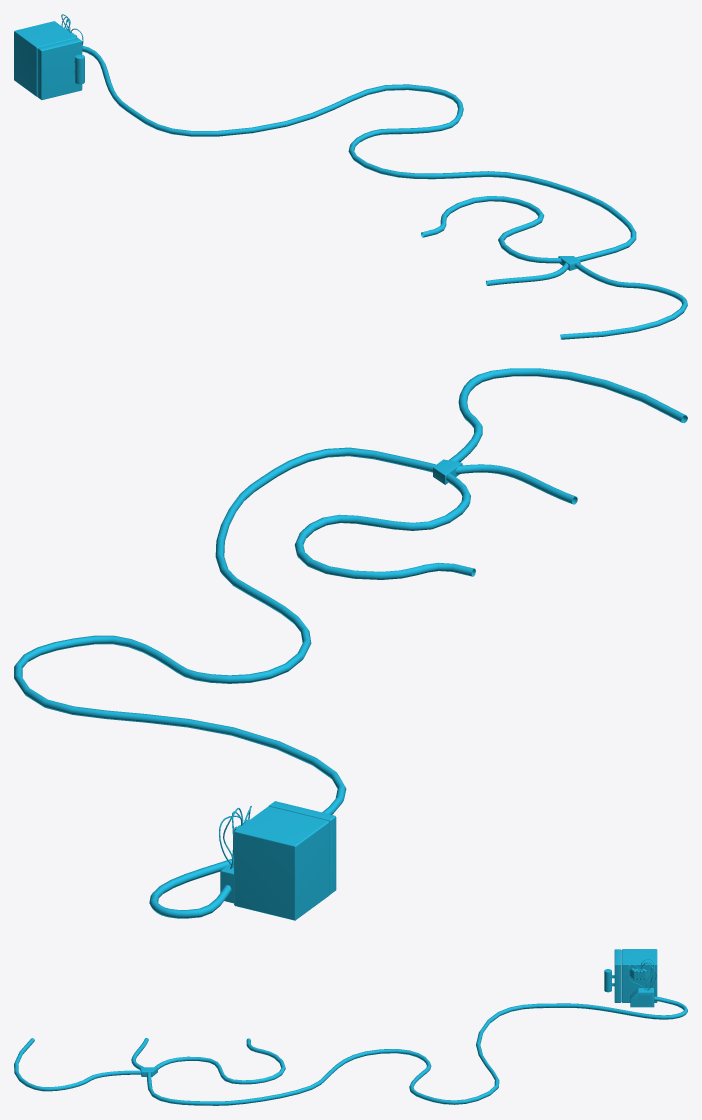
File: SM_RodContainer_2.FBX
The picture shows the model from 3 angles, top to bottom: view 1: azimuth 30°, elevation 25°; view 2: azimuth 150°, elevation 25°; view 3: azimuth 270°, elevation 25°; orthographic projection. The views are drawn at different scales.
Parts seen in each view (by area): view 1: RodContainer_2, RodContainer_2_Door; view 2: RodContainer_2, RodContainer_2_Door; view 3: RodContainer_2, RodContainer_2_Door.
Part boxes in pixels (x1,y1,x2,y2): RodContainer_2: [14, 14, 687, 339]; RodContainer_2_Door: [37, 38, 84, 99]; RodContainer_2: [14, 368, 687, 920]; RodContainer_2_Door: [269, 801, 336, 894]; RodContainer_2: [14, 949, 687, 1105]; RodContainer_2_Door: [604, 949, 621, 1002].
Size of the model in its own units: 298 by 54.39 by 712.
